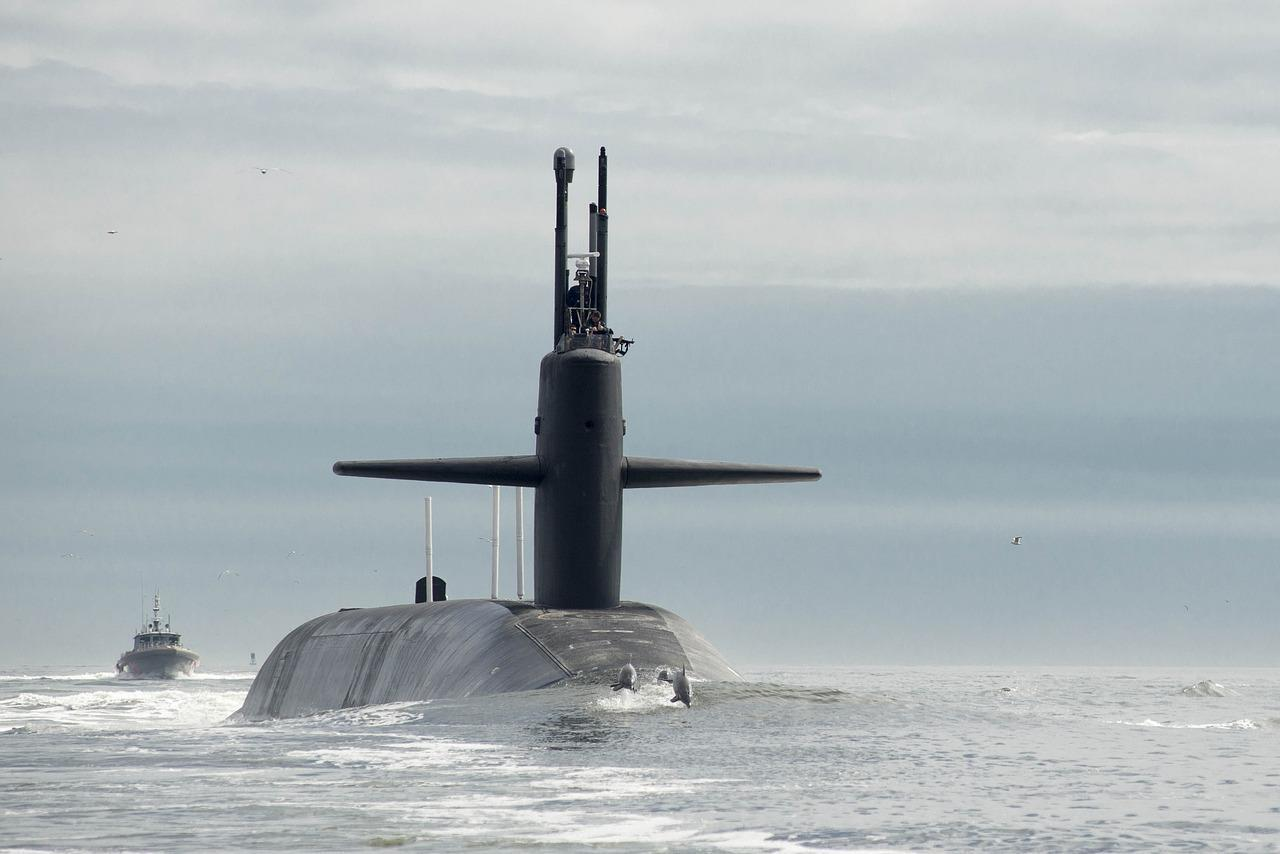Submarine: (216, 82, 1004, 770)
